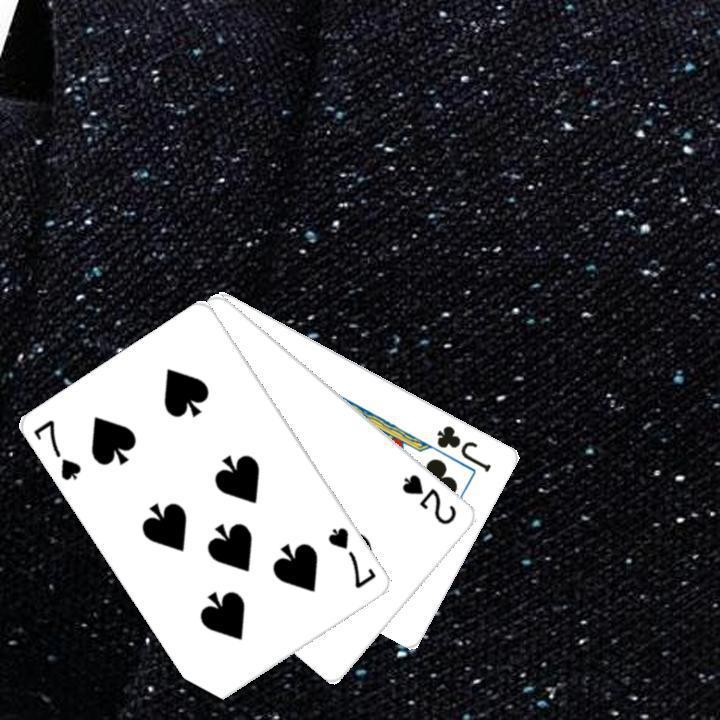2: (398, 469, 460, 527)
7: (323, 523, 379, 591), (29, 415, 84, 483)
J: (433, 420, 494, 474)
